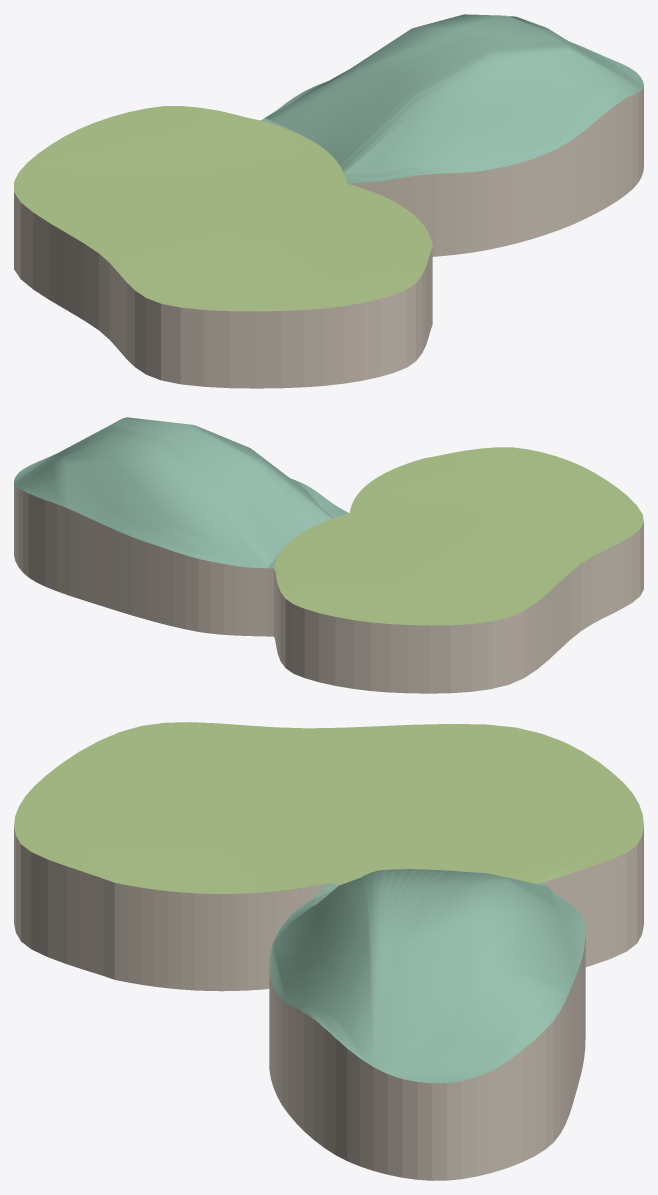
File: seaward-source.glb
The picture shows the model from 3 angles, top to bottom: view 1: azimuth 30°, elevation 25°; view 2: azimuth 150°, elevation 25°; view 3: azimuth 270°, elevation 25°; orthographic projection. The views are drawn at different scales.
Visible parts, largest first — view 1: baseline/top, seaward/top, baseline/rounded-coast, seaward/rounded-coast; view 2: baseline/top, seaward/top, baseline/rounded-coast, seaward/rounded-coast; view 3: baseline/top, seaward/top, seaward/rounded-coast, baseline/rounded-coast, baseline/bank-north-seam.
Boxes of the visible parts, left/top/right/bottom form: baseline/top: left=14, top=106, right=432, bottom=311; seaward/top: left=261, top=14, right=643, bottom=183; baseline/rounded-coast: left=14, top=192, right=432, bottom=388; seaward/rounded-coast: left=347, top=86, right=643, bottom=256; baseline/top: left=274, top=447, right=643, bottom=625; seaward/top: left=14, top=417, right=348, bottom=568; baseline/rounded-coast: left=274, top=522, right=643, bottom=693; seaward/rounded-coast: left=14, top=484, right=273, bottom=636; baseline/top: left=14, top=722, right=643, bottom=893; seaward/top: left=269, top=869, right=585, bottom=1083; seaward/rounded-coast: left=269, top=933, right=585, bottom=1180; baseline/rounded-coast: left=14, top=827, right=643, bottom=979; baseline/bank-north-seam: left=114, top=883, right=328, bottom=991.
Size of the model in its own units: 8.02 by 1.97 by 5.88.
